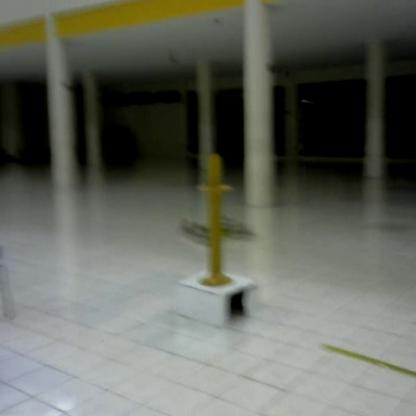pole: (194, 151, 238, 292)
